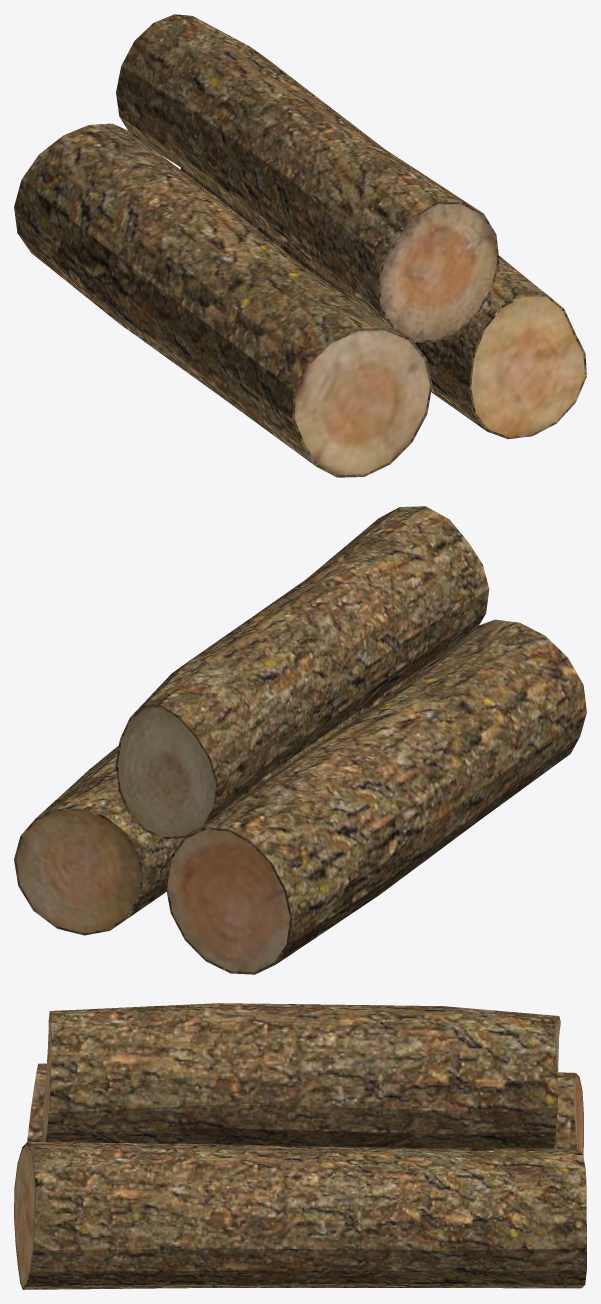
File: wood-logs.glb
3 renders of one model, top to bottom at view 1: azimuth 30°, elevation 25°; view 2: azimuth 150°, elevation 25°; view 3: azimuth 270°, elevation 25°, orthographic. The views are drawn at different scales.
Parts seen in each view (by area): view 1: Object_2; view 2: Object_2; view 3: Object_2.
Part boxes in pixels (<box>): Object_2: <box>14,14,586,477</box>; Object_2: <box>14,506,586,974</box>; Object_2: <box>14,1003,586,1289</box>.
Size of the model in its own units: 40.25 by 31.81 by 69.89.
Materials: 1 (1 with a texture image).
